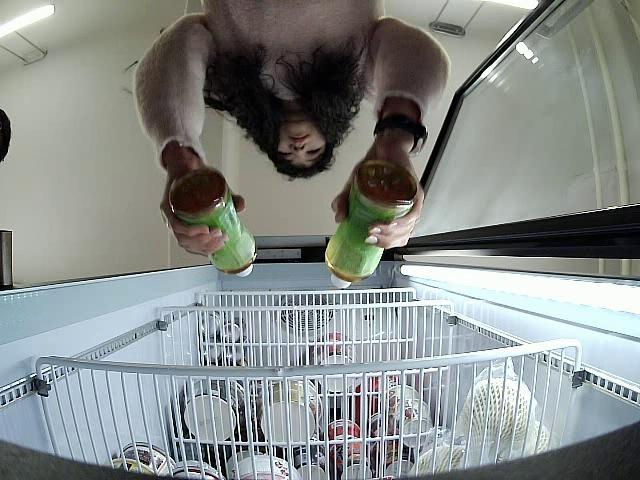19_17cha: (325, 162, 416, 291), (169, 170, 256, 276)
